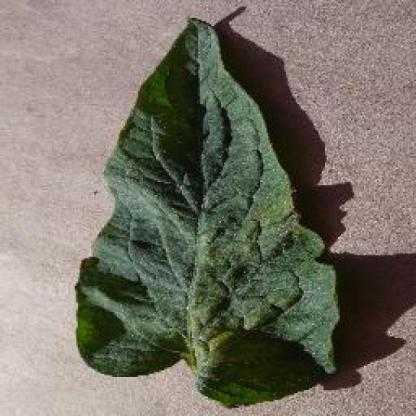Tomato_Spider_Mites: (76, 18, 342, 403)
